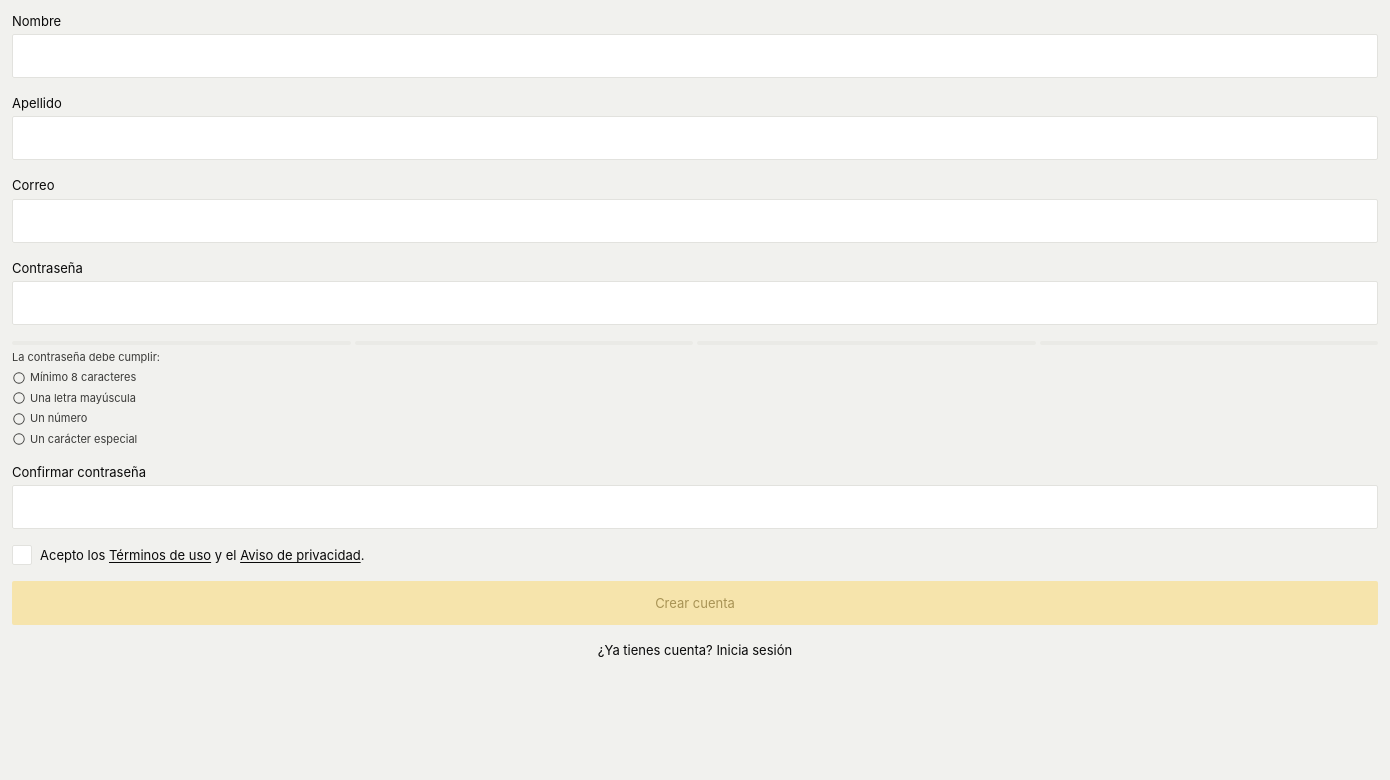
Test: CustomerRegisterForm › keeps the submit button disabled until the terms checkbox is checked
expect the button named "Crear cuenta" is disabled: met, box [12,581,1378,625]
Click the checkbox labelled "Acepto los Términos de uso y el Aviso de privacidad ." at (188, 555), box [12,545,364,565]
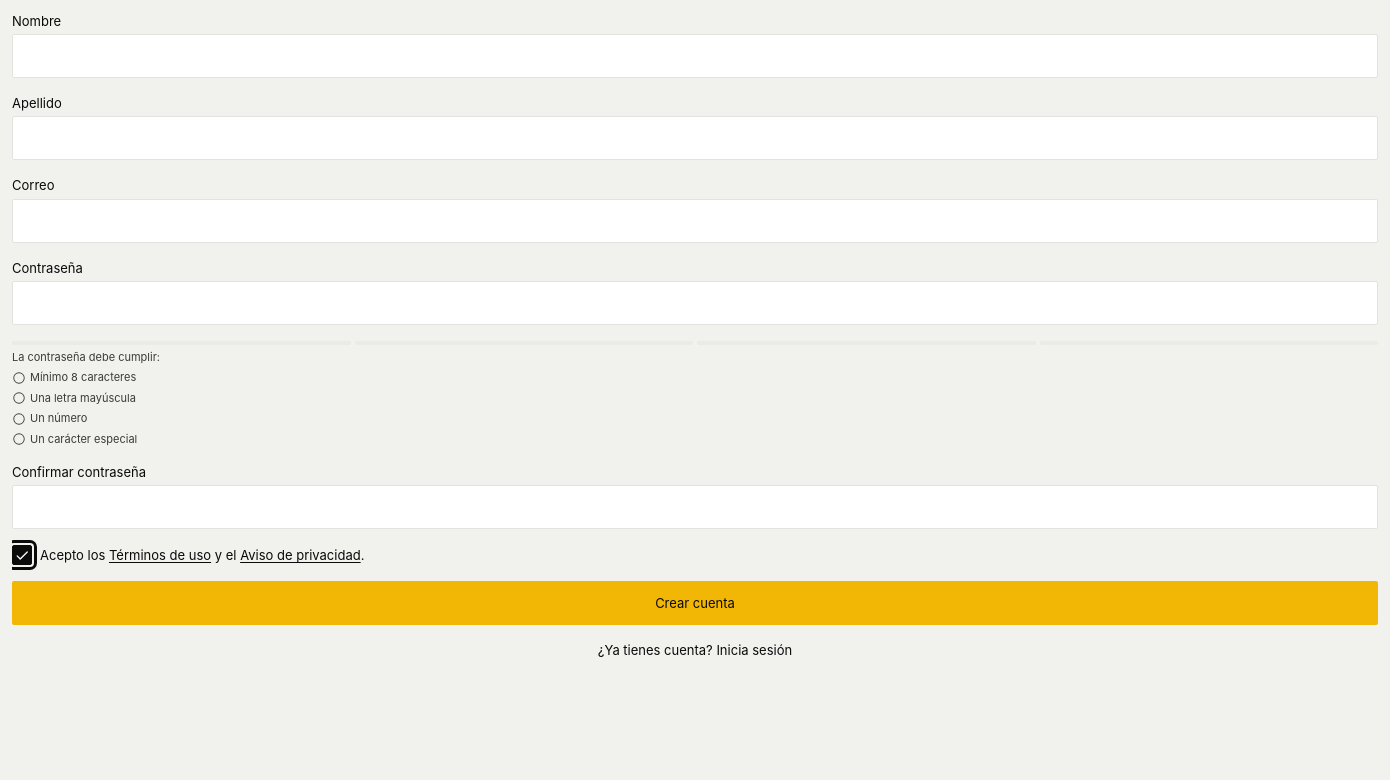
expect the button named "Crear cuenta" is enabled: met, box [12,581,1378,625]
